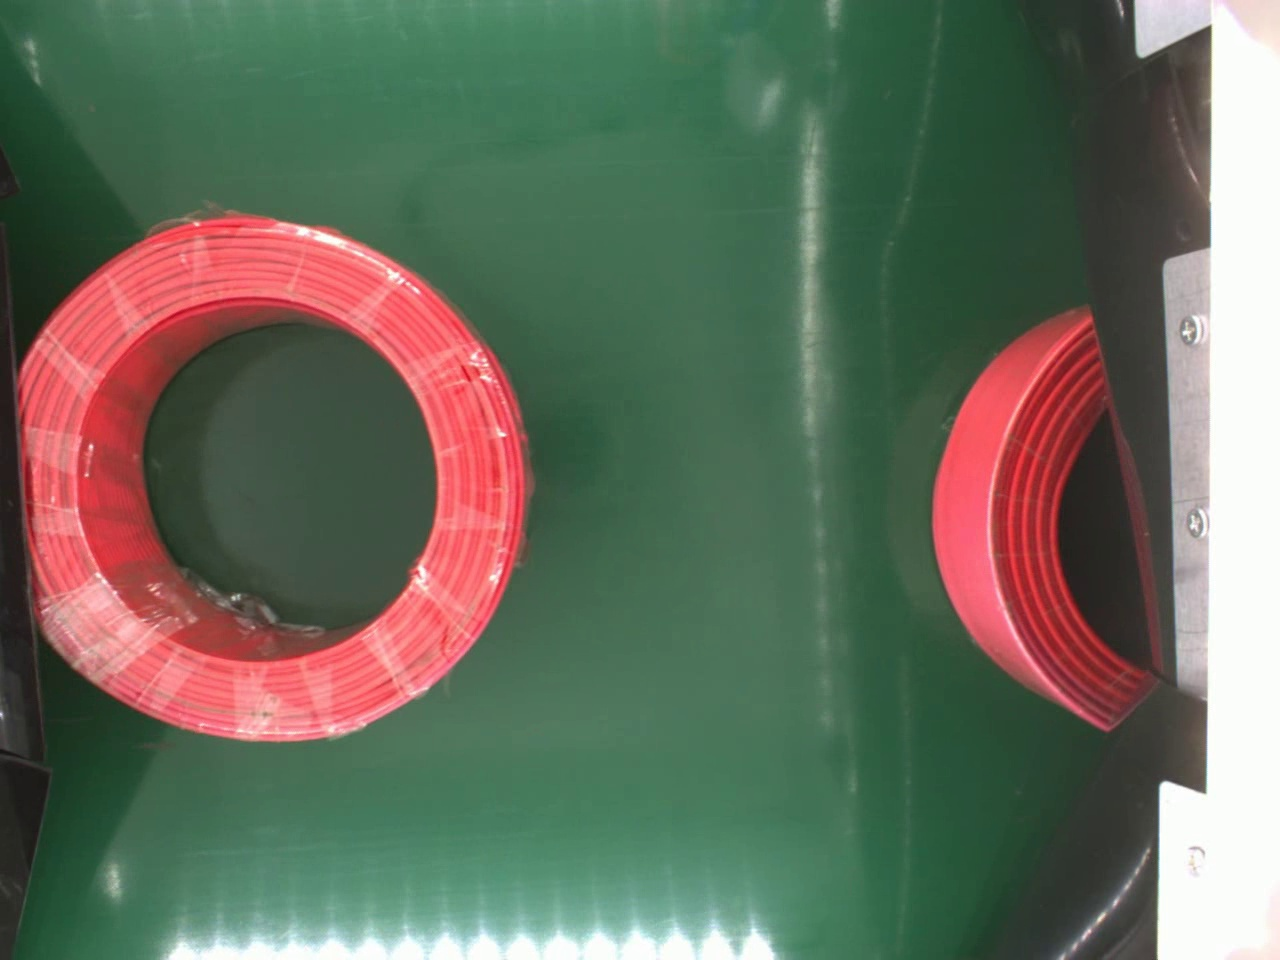red: (11, 203, 529, 740), (929, 301, 1151, 730)
